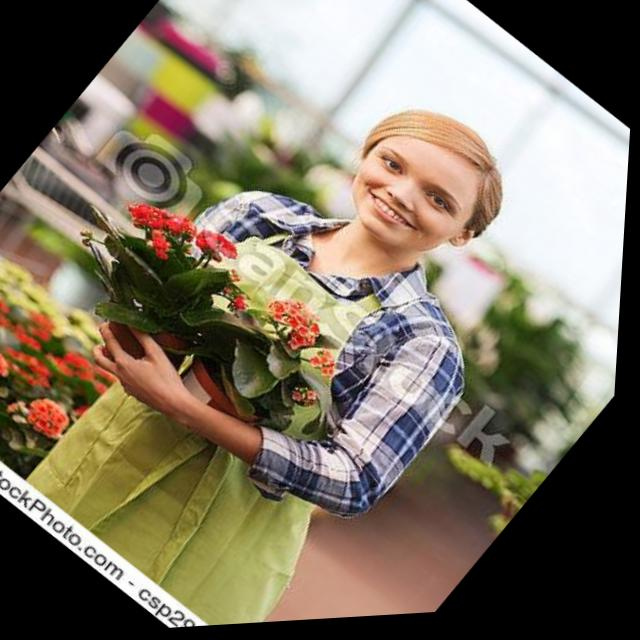Flower: (263, 284, 337, 351), (186, 220, 254, 284), (124, 189, 175, 239), (306, 348, 350, 392), (140, 227, 184, 269), (289, 322, 323, 354), (300, 391, 326, 416)
